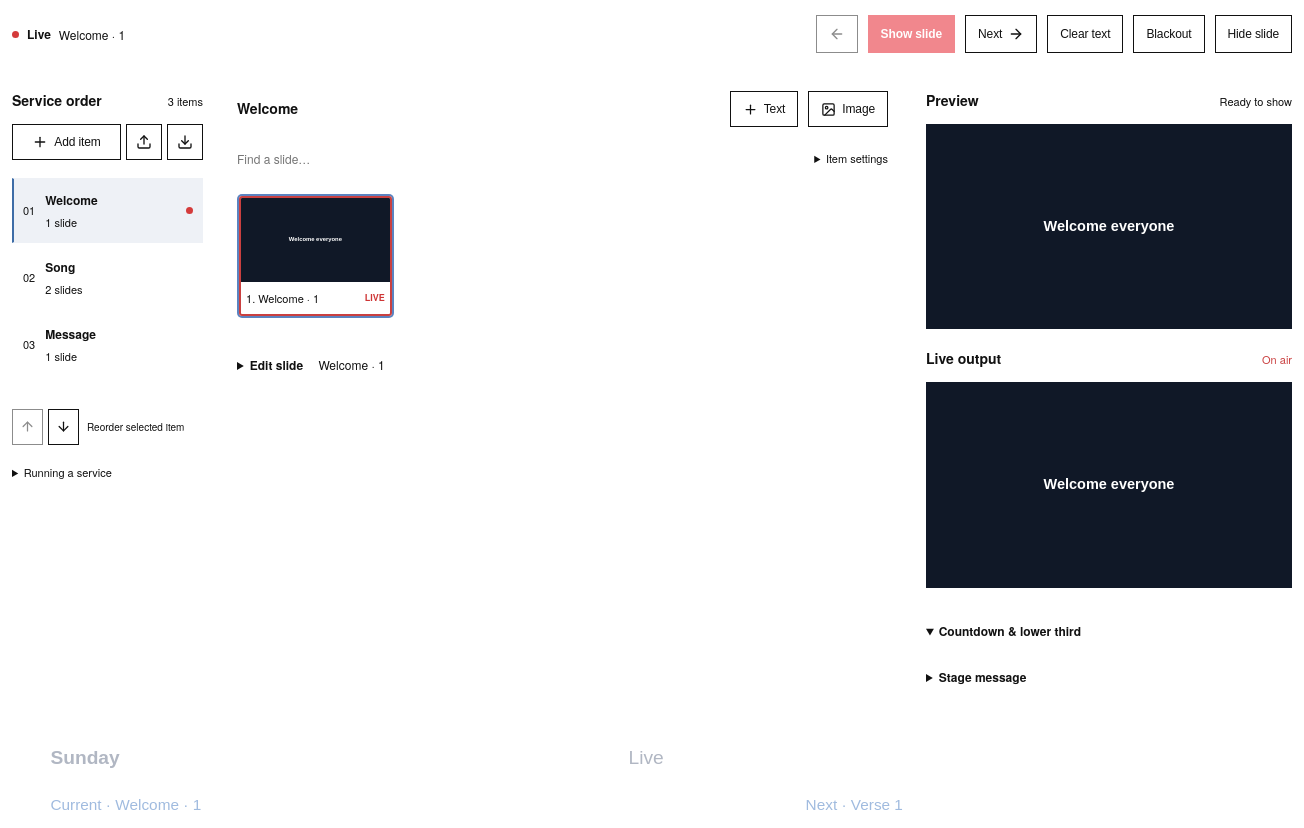
Test: Sunday service operation › protects live item deletion and reaches the end without wrapping
This screenshot has width=1304, height=828.
Click the button "Next": click(1001, 34) [965,15,1037,53]
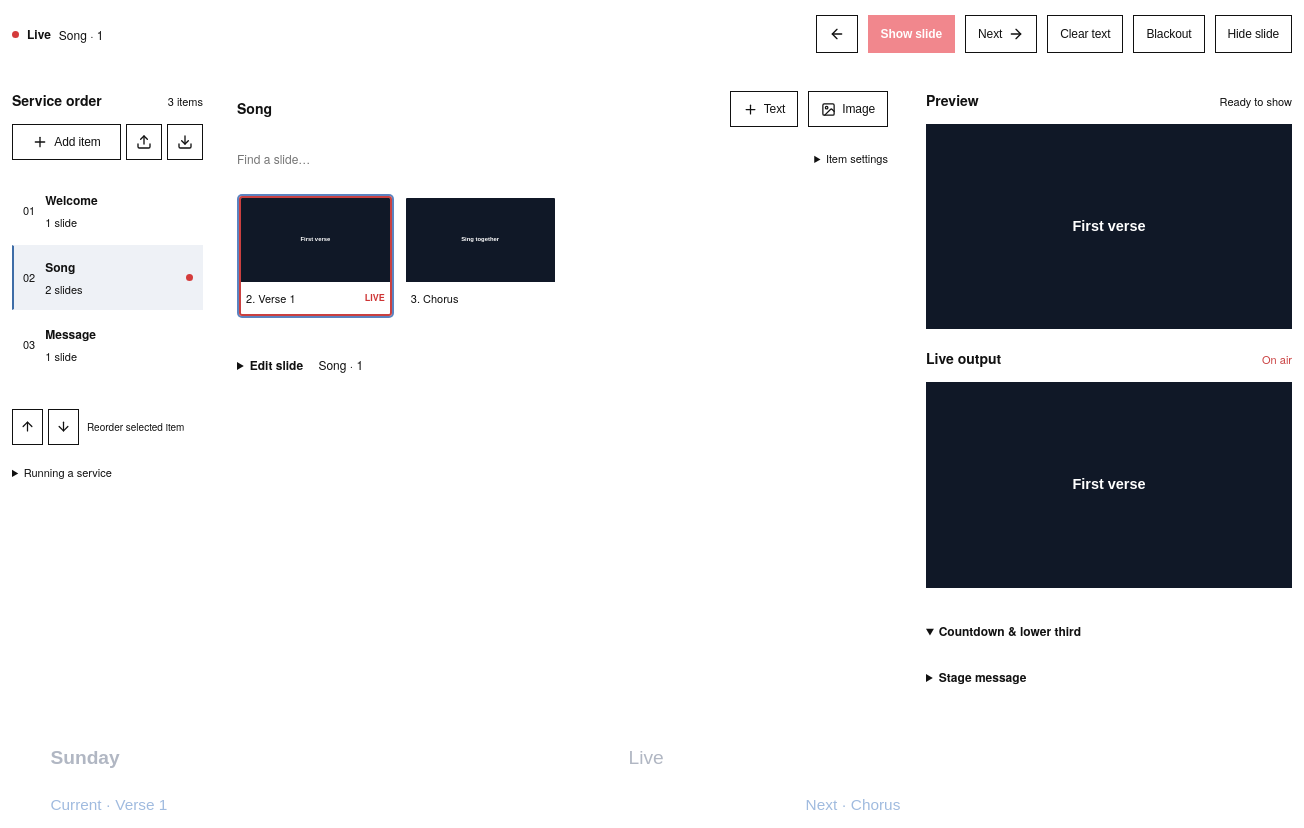
Click the button "Next": click(1001, 34) [965,15,1037,53]
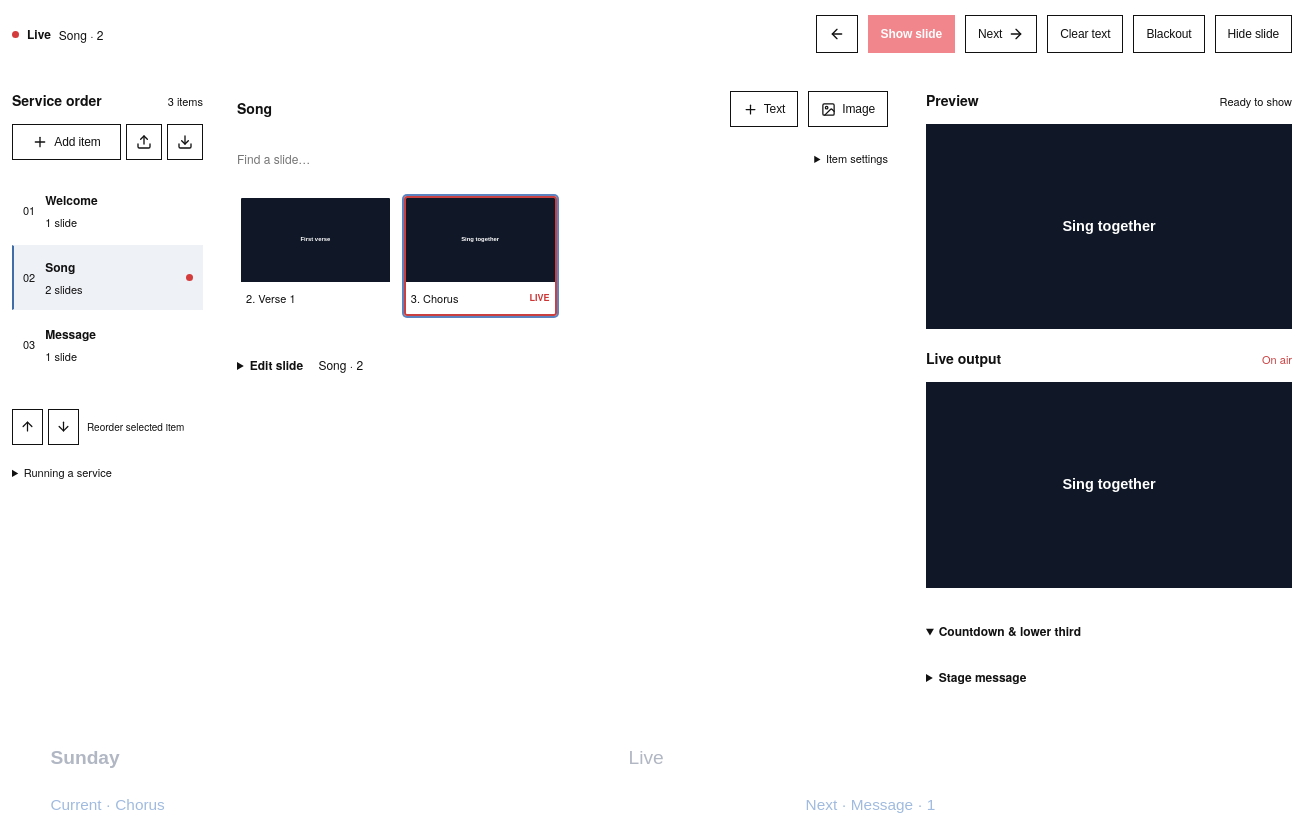
Click the button "Next": click(1001, 34) [965,15,1037,53]
(page scrolled)
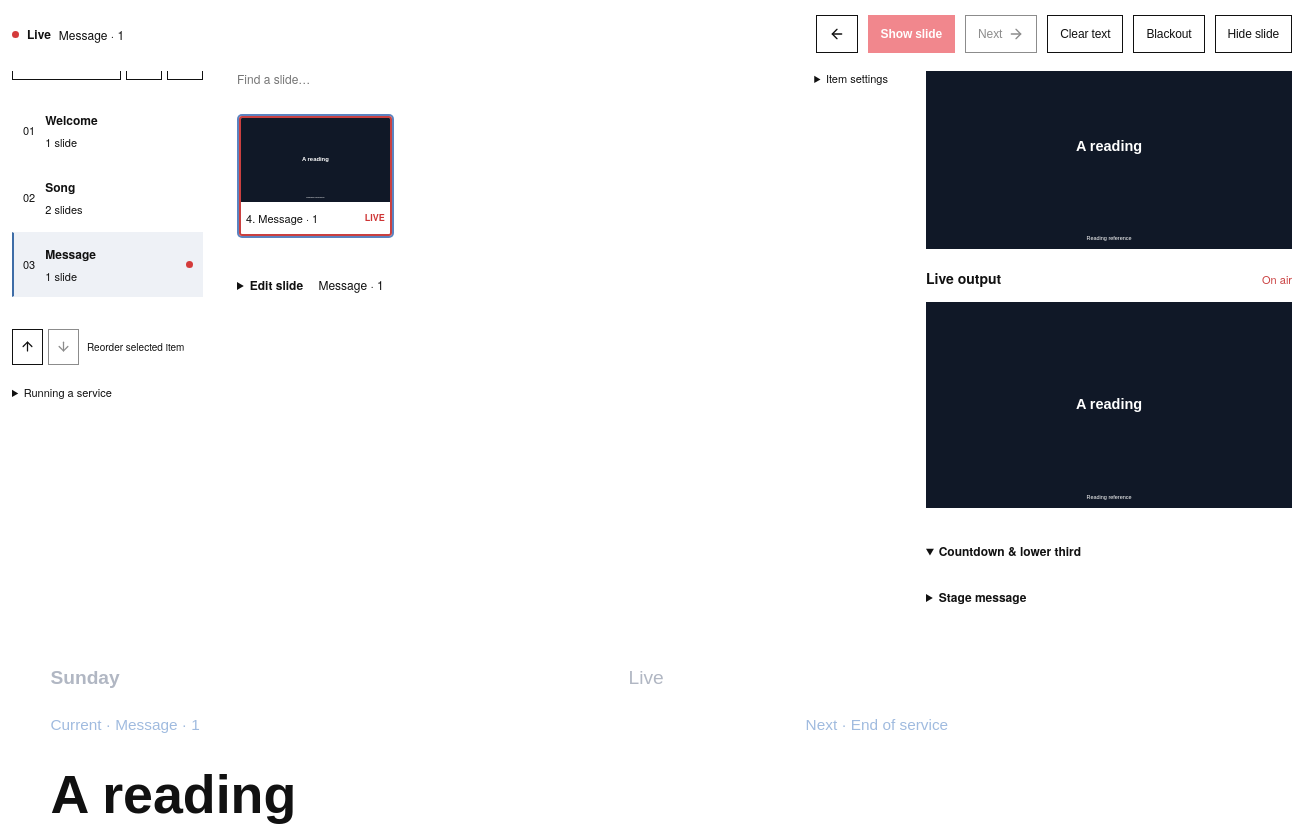
Expected: the button "Next" is disabled, [965,15,1037,53]
